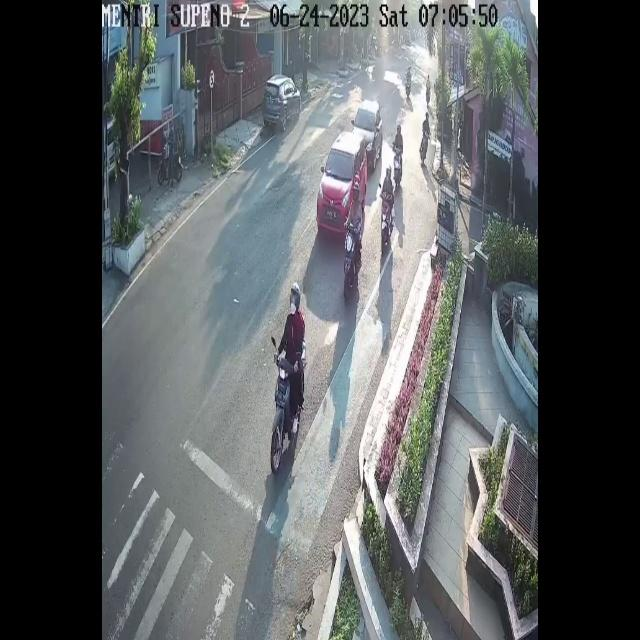bus: (270, 338, 307, 473), (343, 219, 359, 300), (380, 191, 394, 248), (392, 145, 403, 190), (421, 127, 428, 169), (404, 78, 411, 105), (425, 84, 432, 110)
motorcycle: (317, 128, 368, 238), (264, 72, 302, 132), (352, 99, 382, 175)
